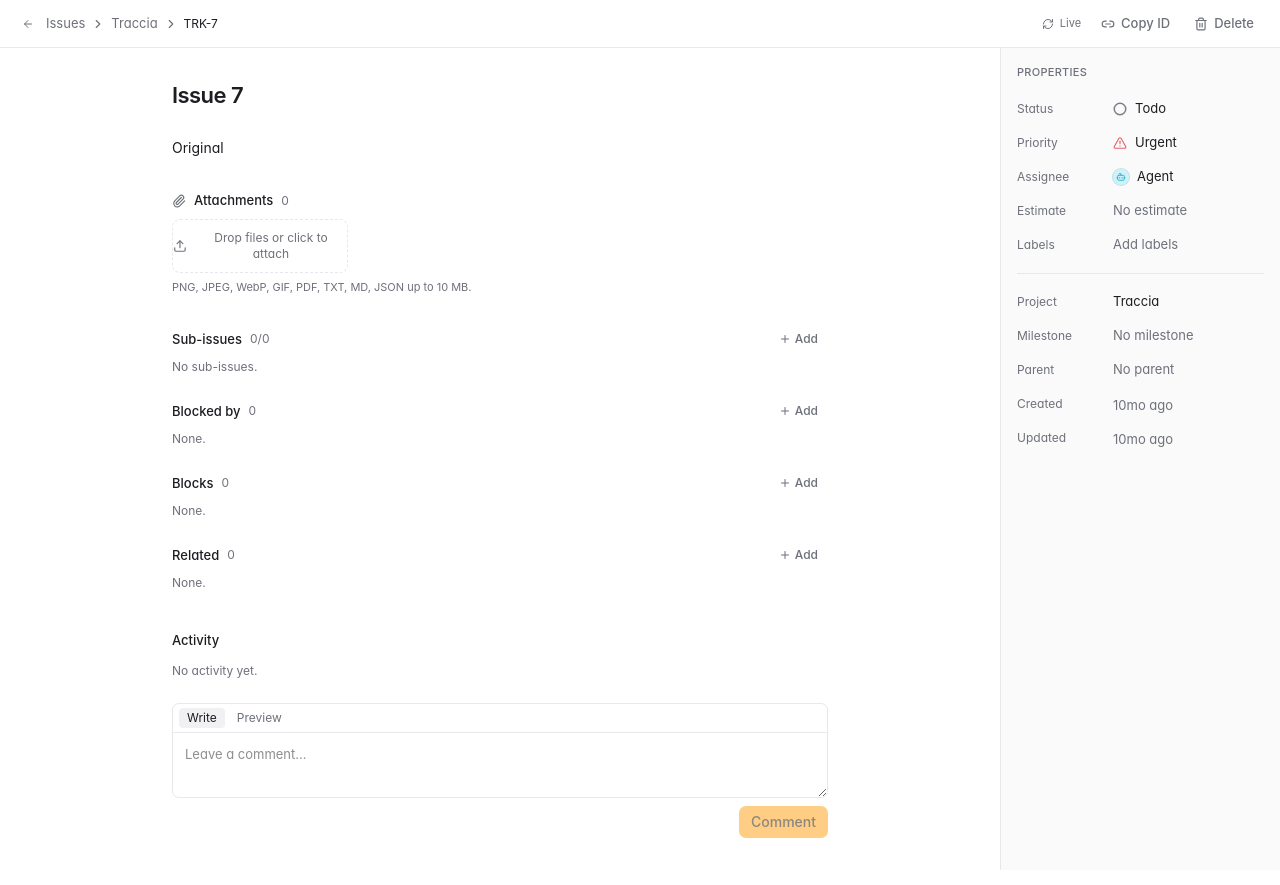
Test: IssueDetail live refresh › keeps a typed title draft, but still adds new comments
Step 1. Replace the text in the text box named "Title" with "My new title" → (500, 95), box x1=172 y1=80 x2=828 y2=110
Wait 12000 ms
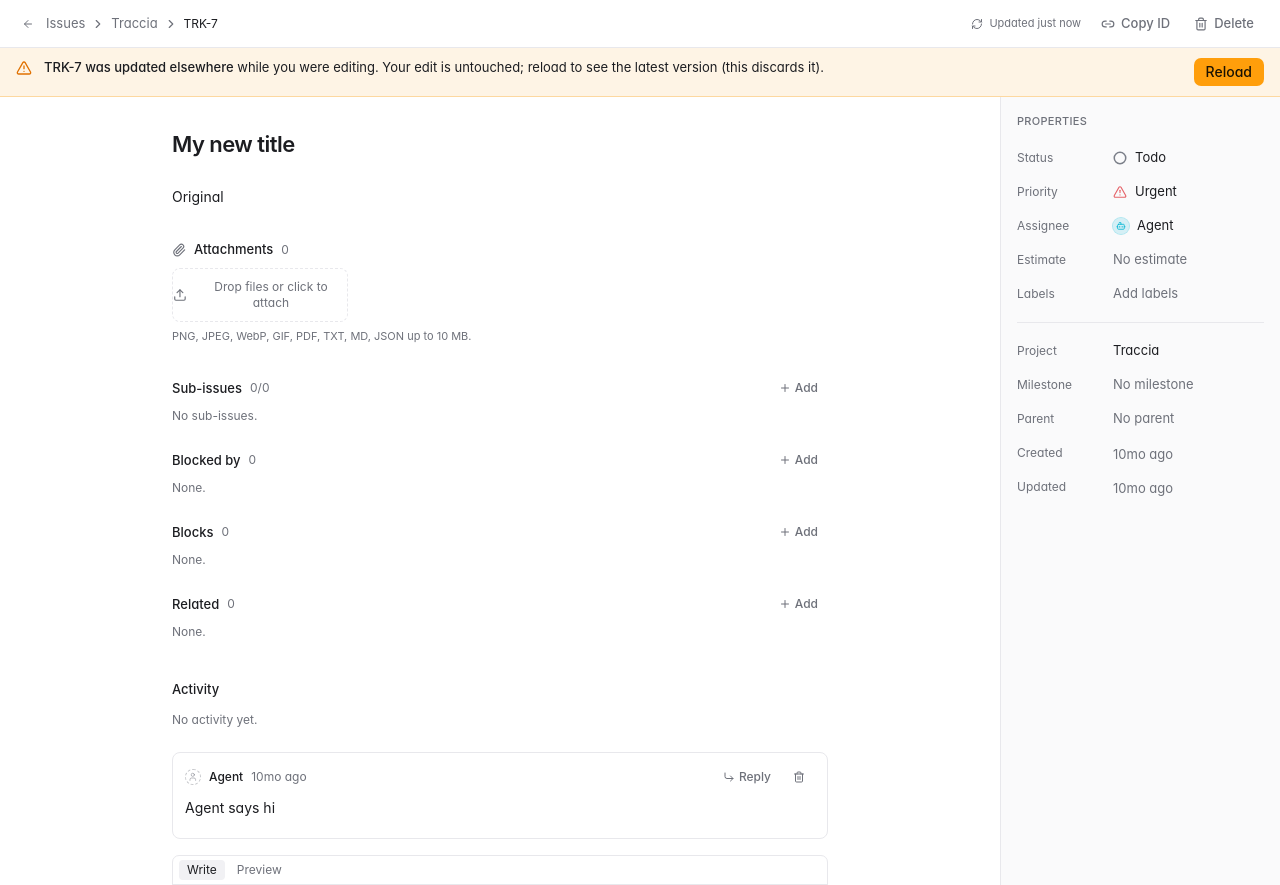
Check: the text "Agent says hi" is shown, box x1=185 y1=799 x2=275 y2=816
Check: the message with test id "stale-banner" is shown, box x1=0 y1=48 x2=1279 y2=97
